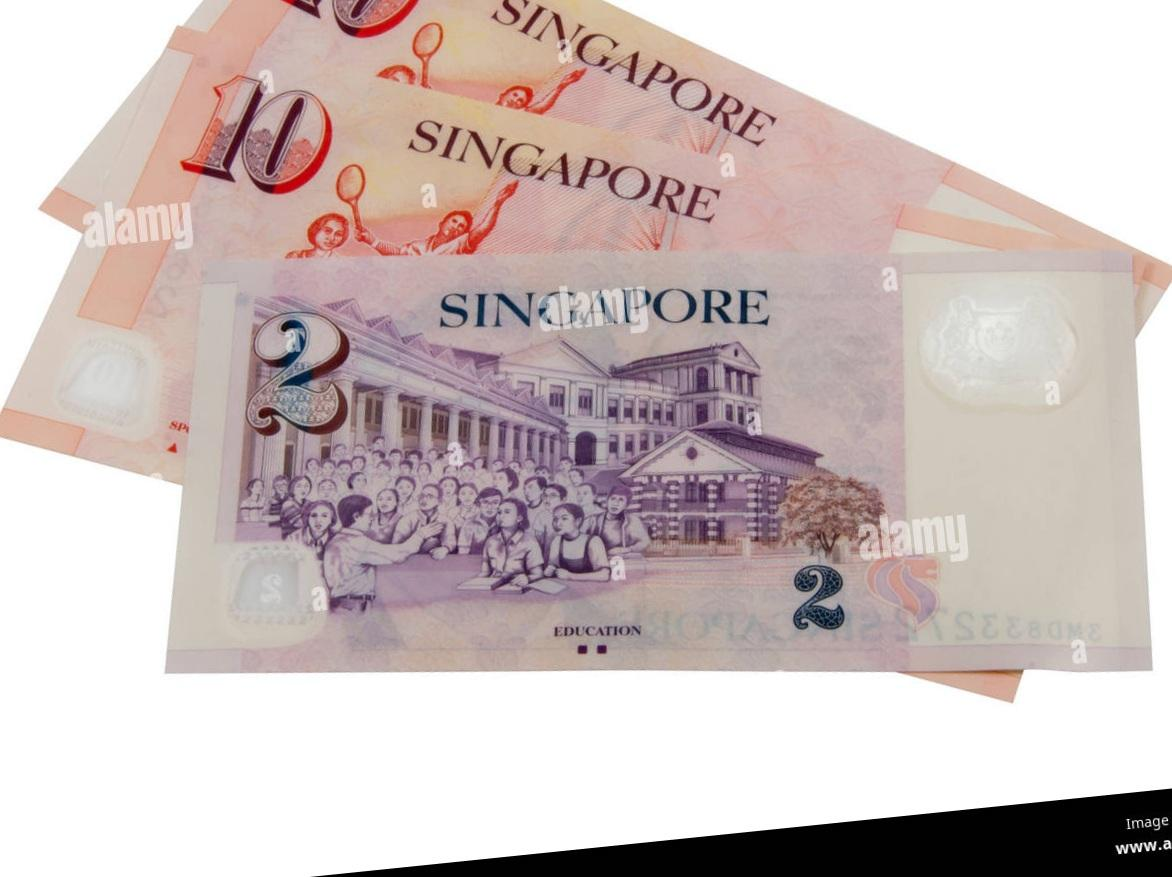2SingaporeDollar: (352, 32, 886, 721)
